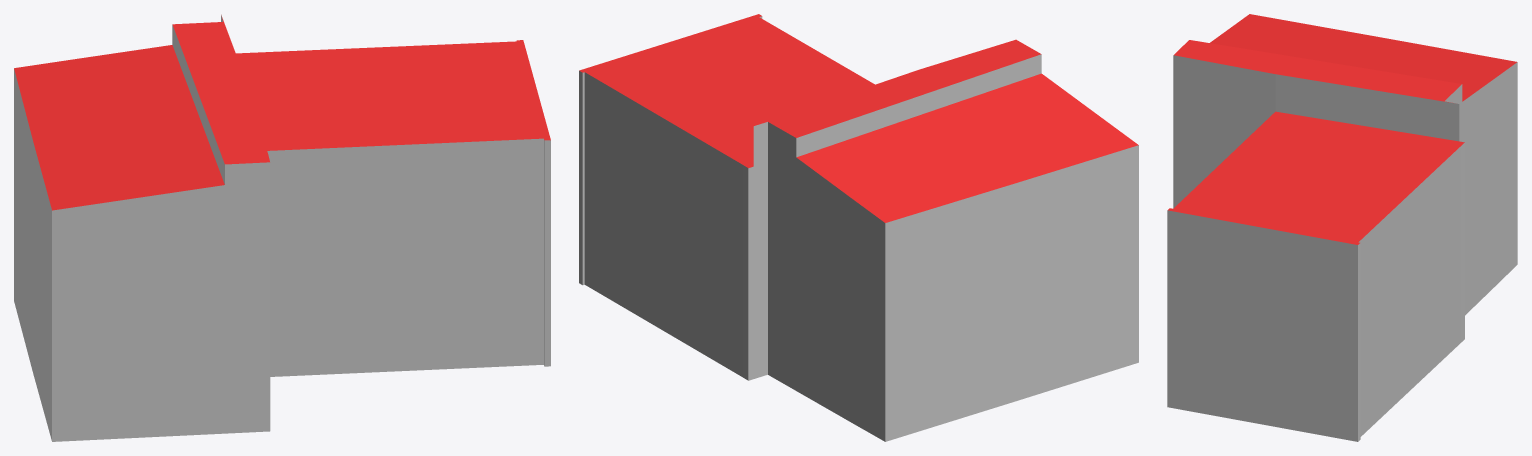
File: DEBY_LOD2_4907128.dae
3 views of the same model, side by side, from view 1: azimuth 30°, elevation 25°; view 2: azimuth 150°, elevation 25°; view 3: azimuth 270°, elevation 25° (orthographic). The views are drawn at different scales.
Bounding box in the file's own units: 27.17 × 17.75 × 13.1.
